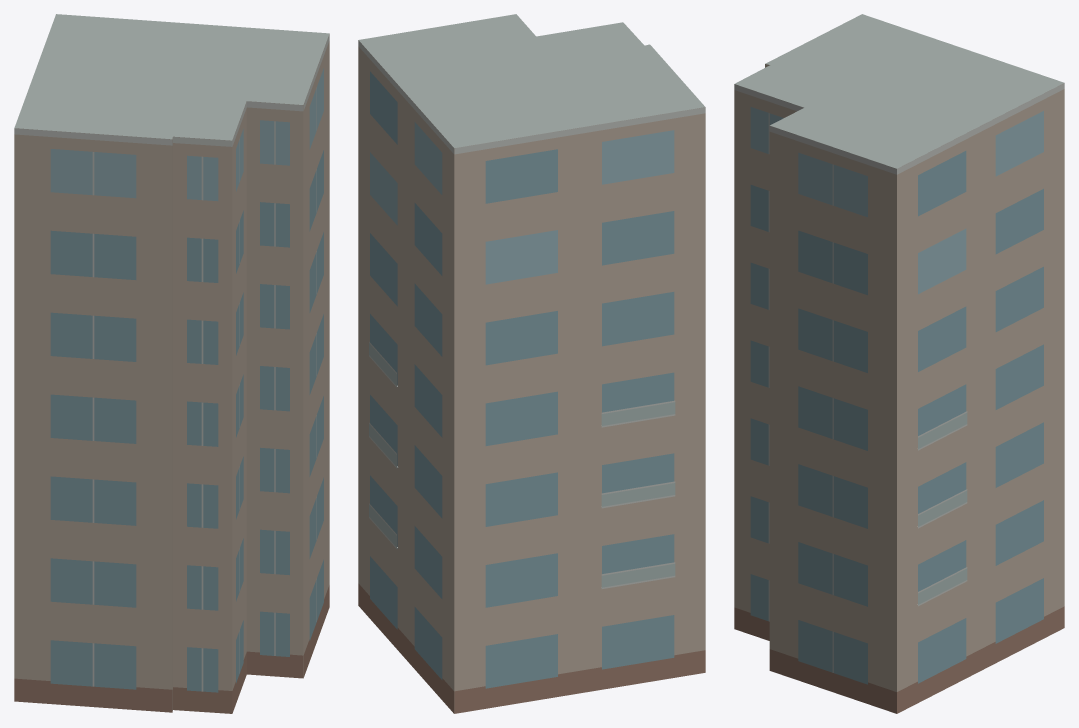
The model's file is survey-upis-32933693.glb.
3 views of the same model, side by side, from view 1: azimuth 30°, elevation 25°; view 2: azimuth 150°, elevation 25°; view 3: azimuth 270°, elevation 25° (orthographic). The views are drawn at different scales.
Visible parts, largest first — view 1: survey-upis-32933693.tmp; view 2: survey-upis-32933693.tmp; view 3: survey-upis-32933693.tmp.
Boxes of the visible parts, <box> form: survey-upis-32933693.tmp: <box>14,14,329,713</box>; survey-upis-32933693.tmp: <box>358,14,705,713</box>; survey-upis-32933693.tmp: <box>734,14,1064,713</box>.
Bounding box in the file's own units: 13.47 × 22.1 × 12.15.
